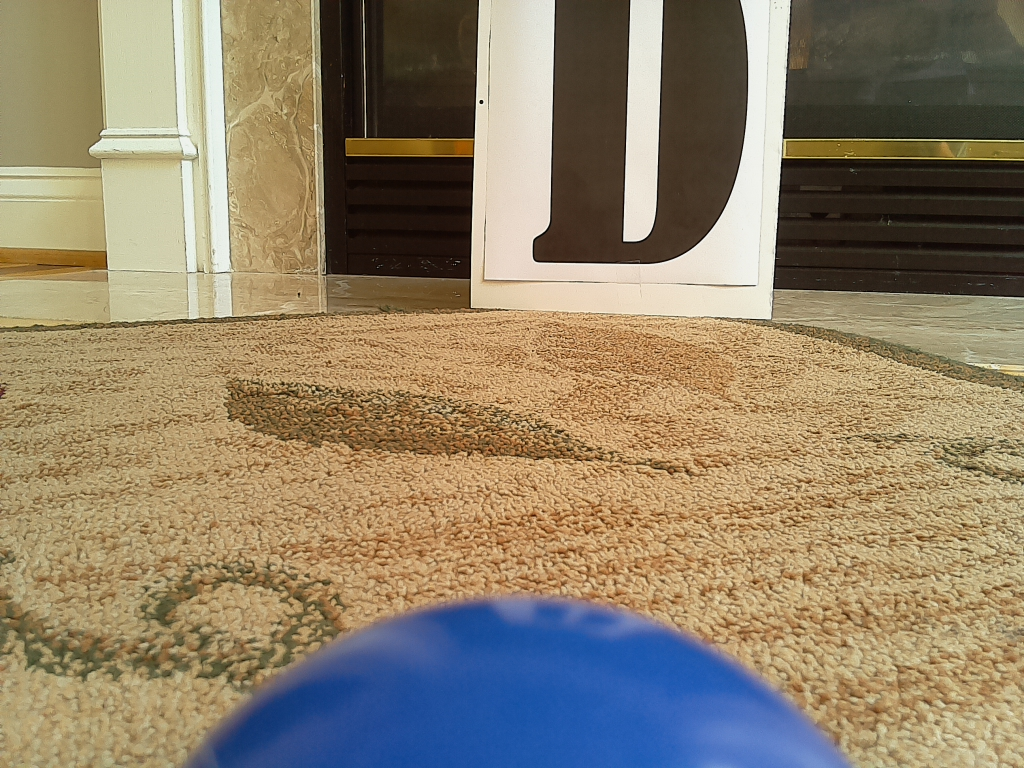letter: (534, 1, 748, 264)
